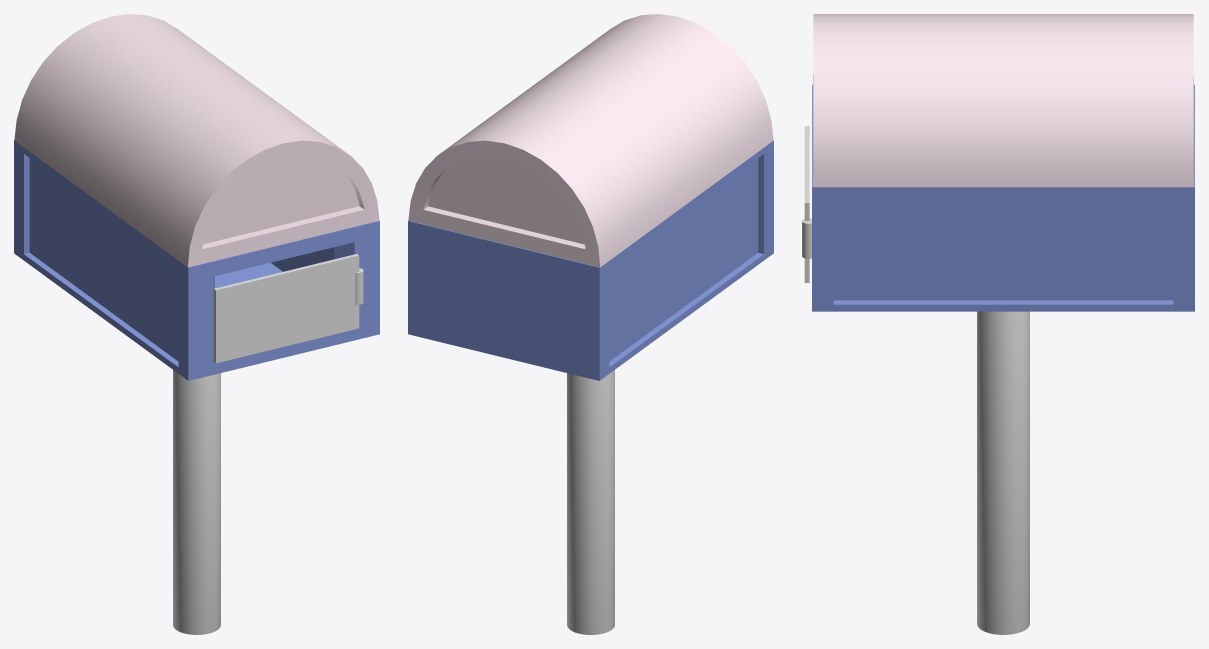
Rendered from mailBox.fbx.
The picture shows the model from 3 angles, left to right: view 1: azimuth 30°, elevation 25°; view 2: azimuth 150°, elevation 25°; view 3: azimuth 270°, elevation 25°; orthographic projection. The views are drawn at different scales.
Parts seen in each view (by area): view 1: head, entity, gun, door; view 2: head, entity, gun; view 3: head, entity, gun, door.
Part boxes in pixels (x1=…): head: x1=14, y1=14, x2=379, y2=267; entity: x1=14, y1=140, x2=379, y2=380; gun: x1=173, y1=370, x2=220, y2=634; door: x1=213, y1=254, x2=359, y2=363; head: x1=408, y1=14, x2=773, y2=267; entity: x1=408, y1=140, x2=773, y2=380; gun: x1=567, y1=370, x2=614, y2=634; head: x1=813, y1=14, x2=1193, y2=187; entity: x1=812, y1=84, x2=1194, y2=311; gun: x1=977, y1=311, x2=1029, y2=634; door: x1=804, y1=126, x2=809, y2=282.
Size of the model in its own units: 90.92 by 247 by 147.
